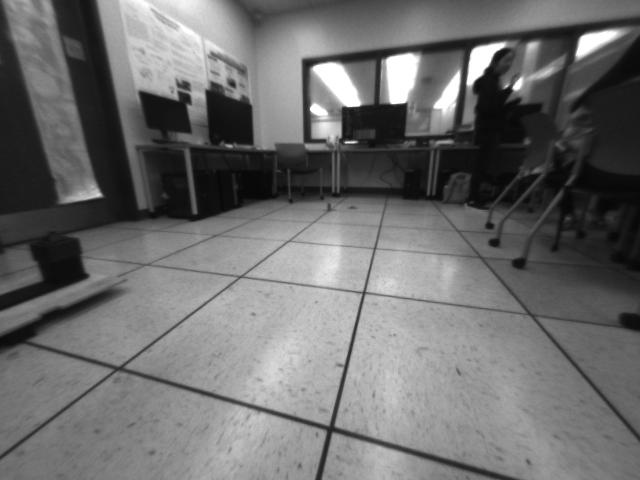X: (320, 201, 338, 214)
